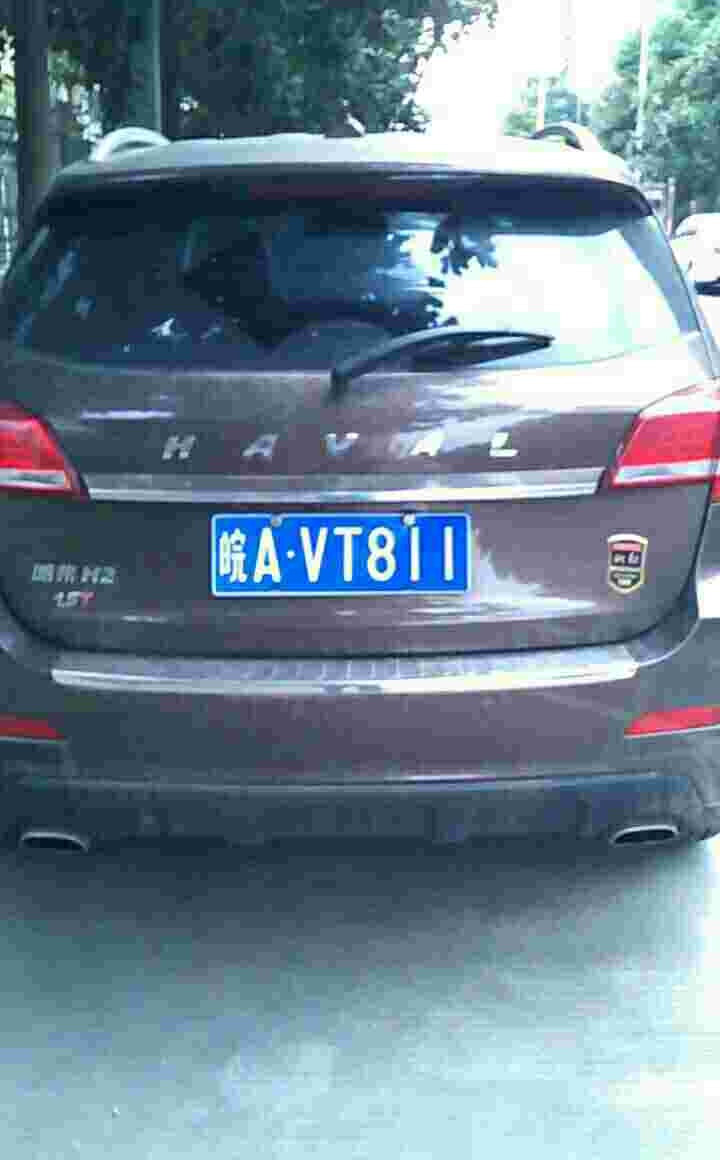plate: (213, 508, 477, 600)
